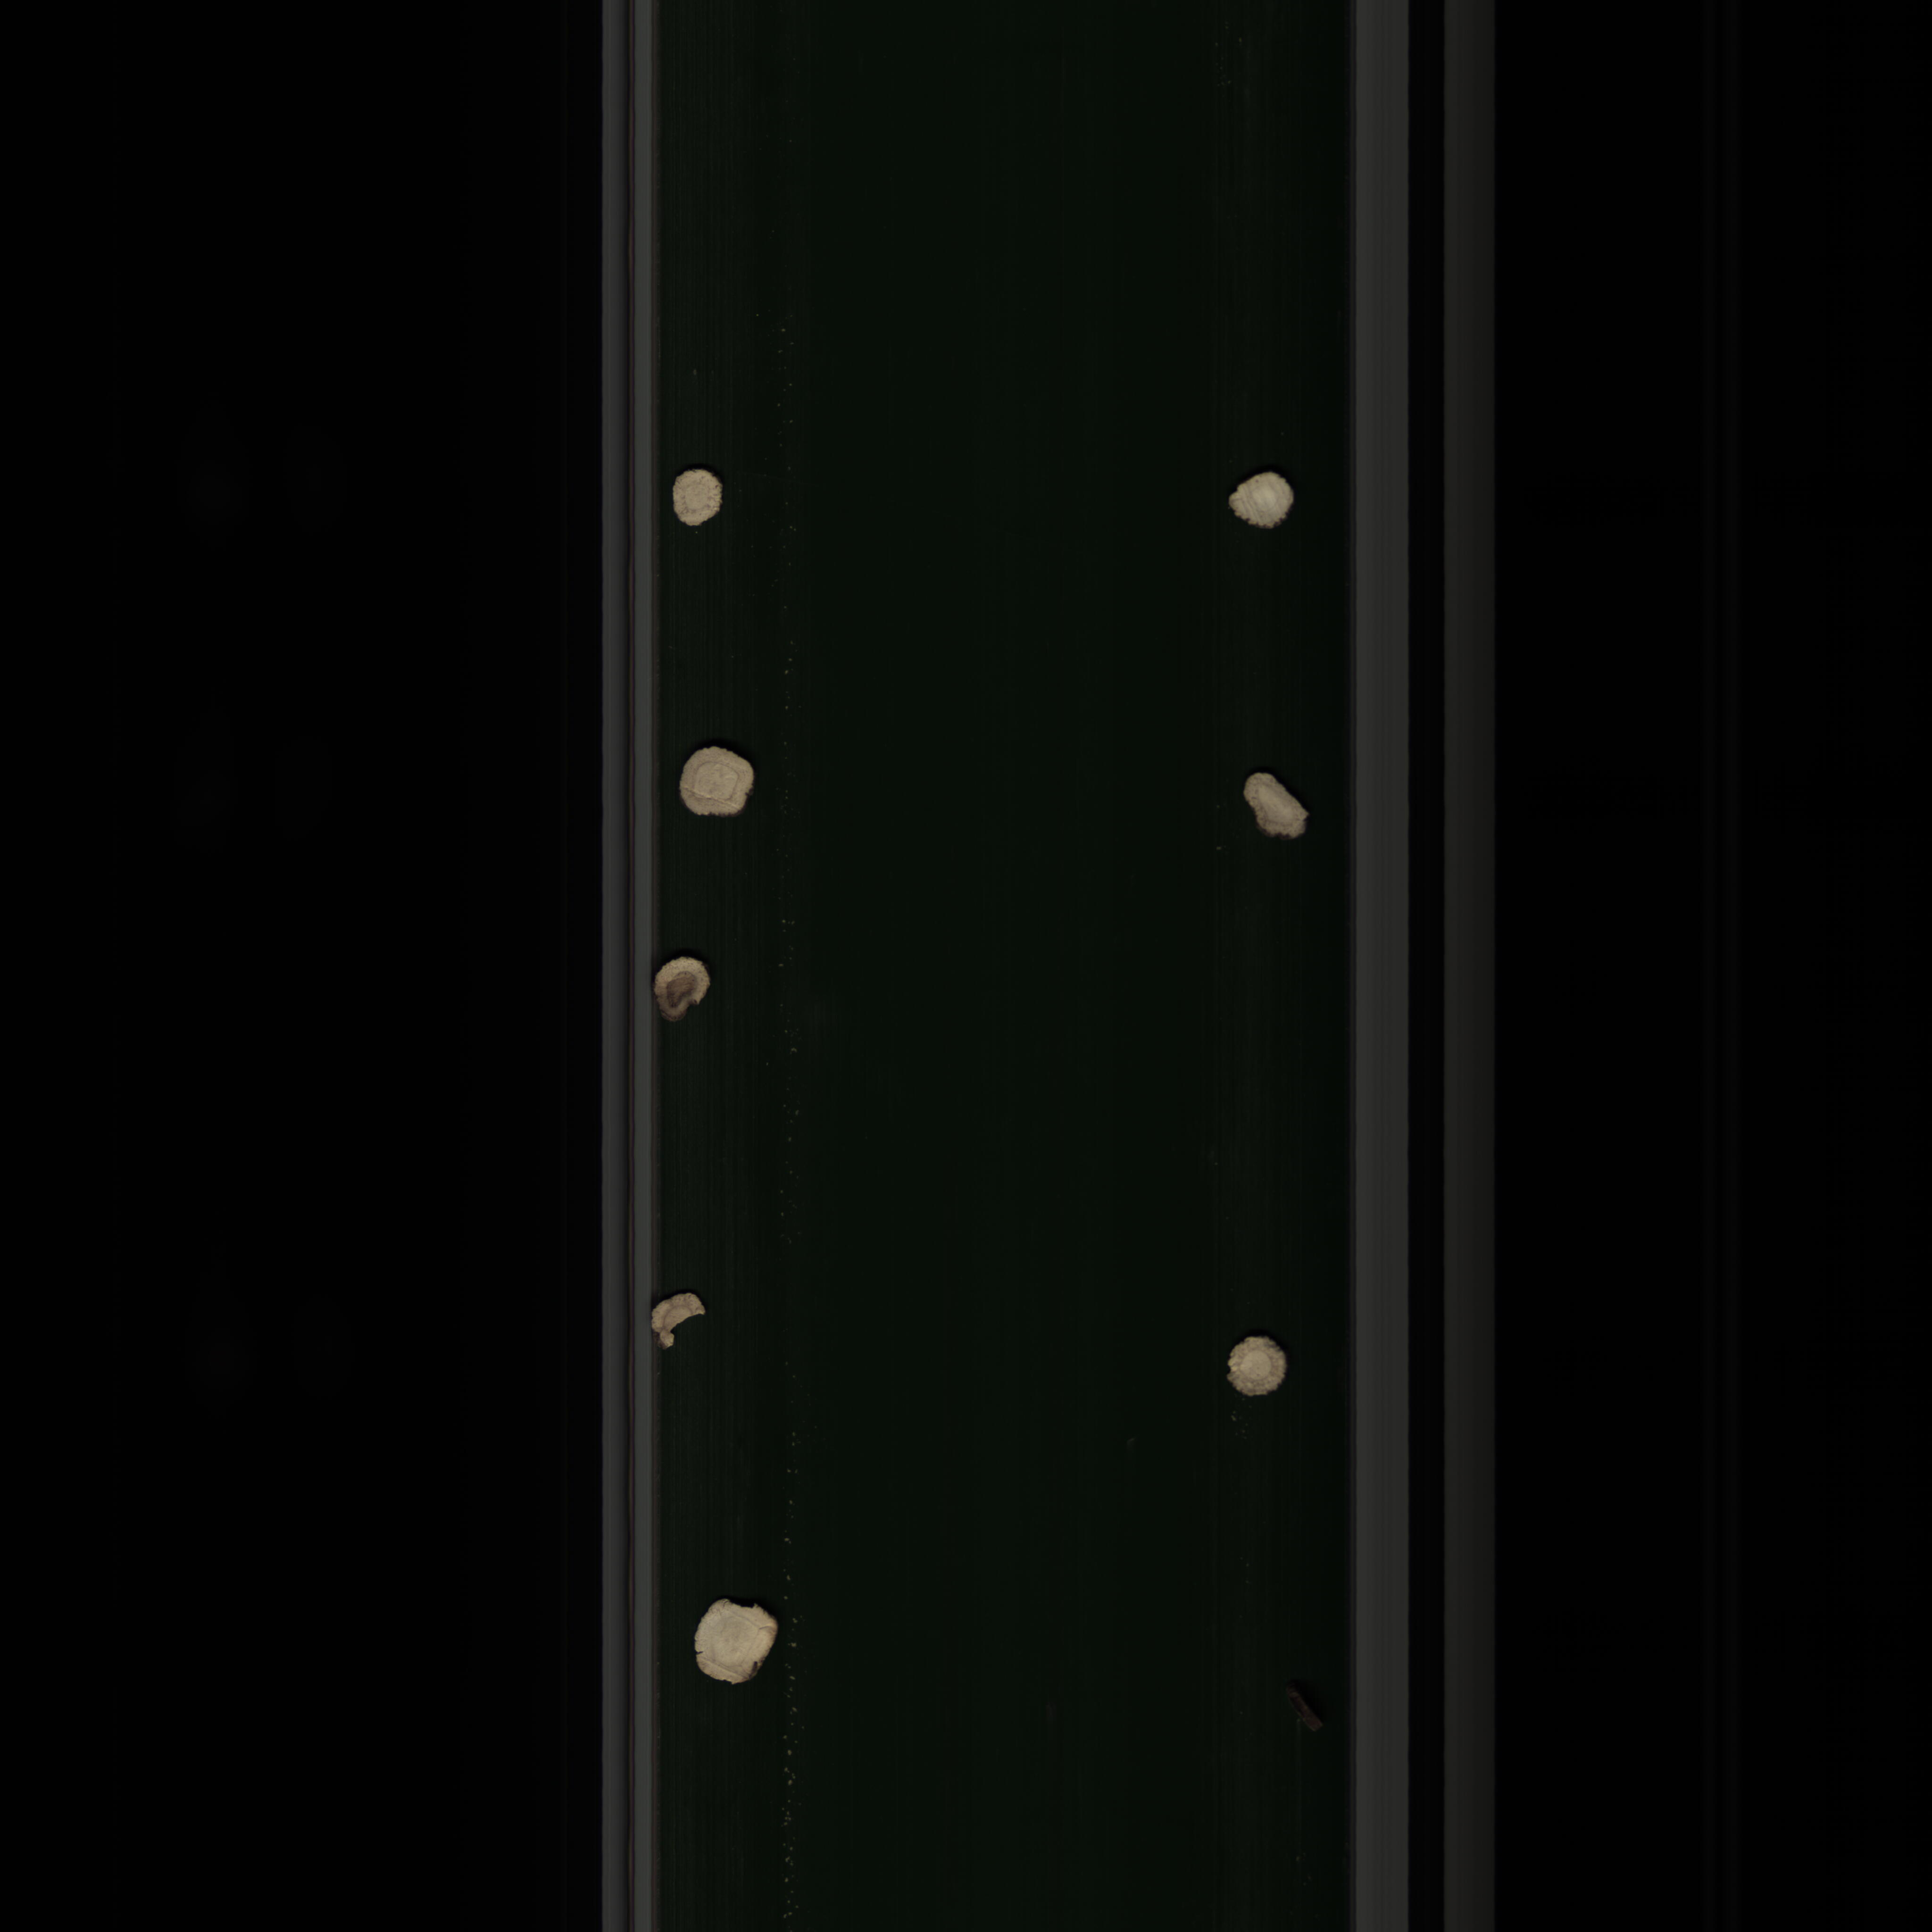debris: (648, 1288, 704, 1359)
distortion: (1235, 759, 1316, 858)
moldy: (646, 954, 718, 1030)
